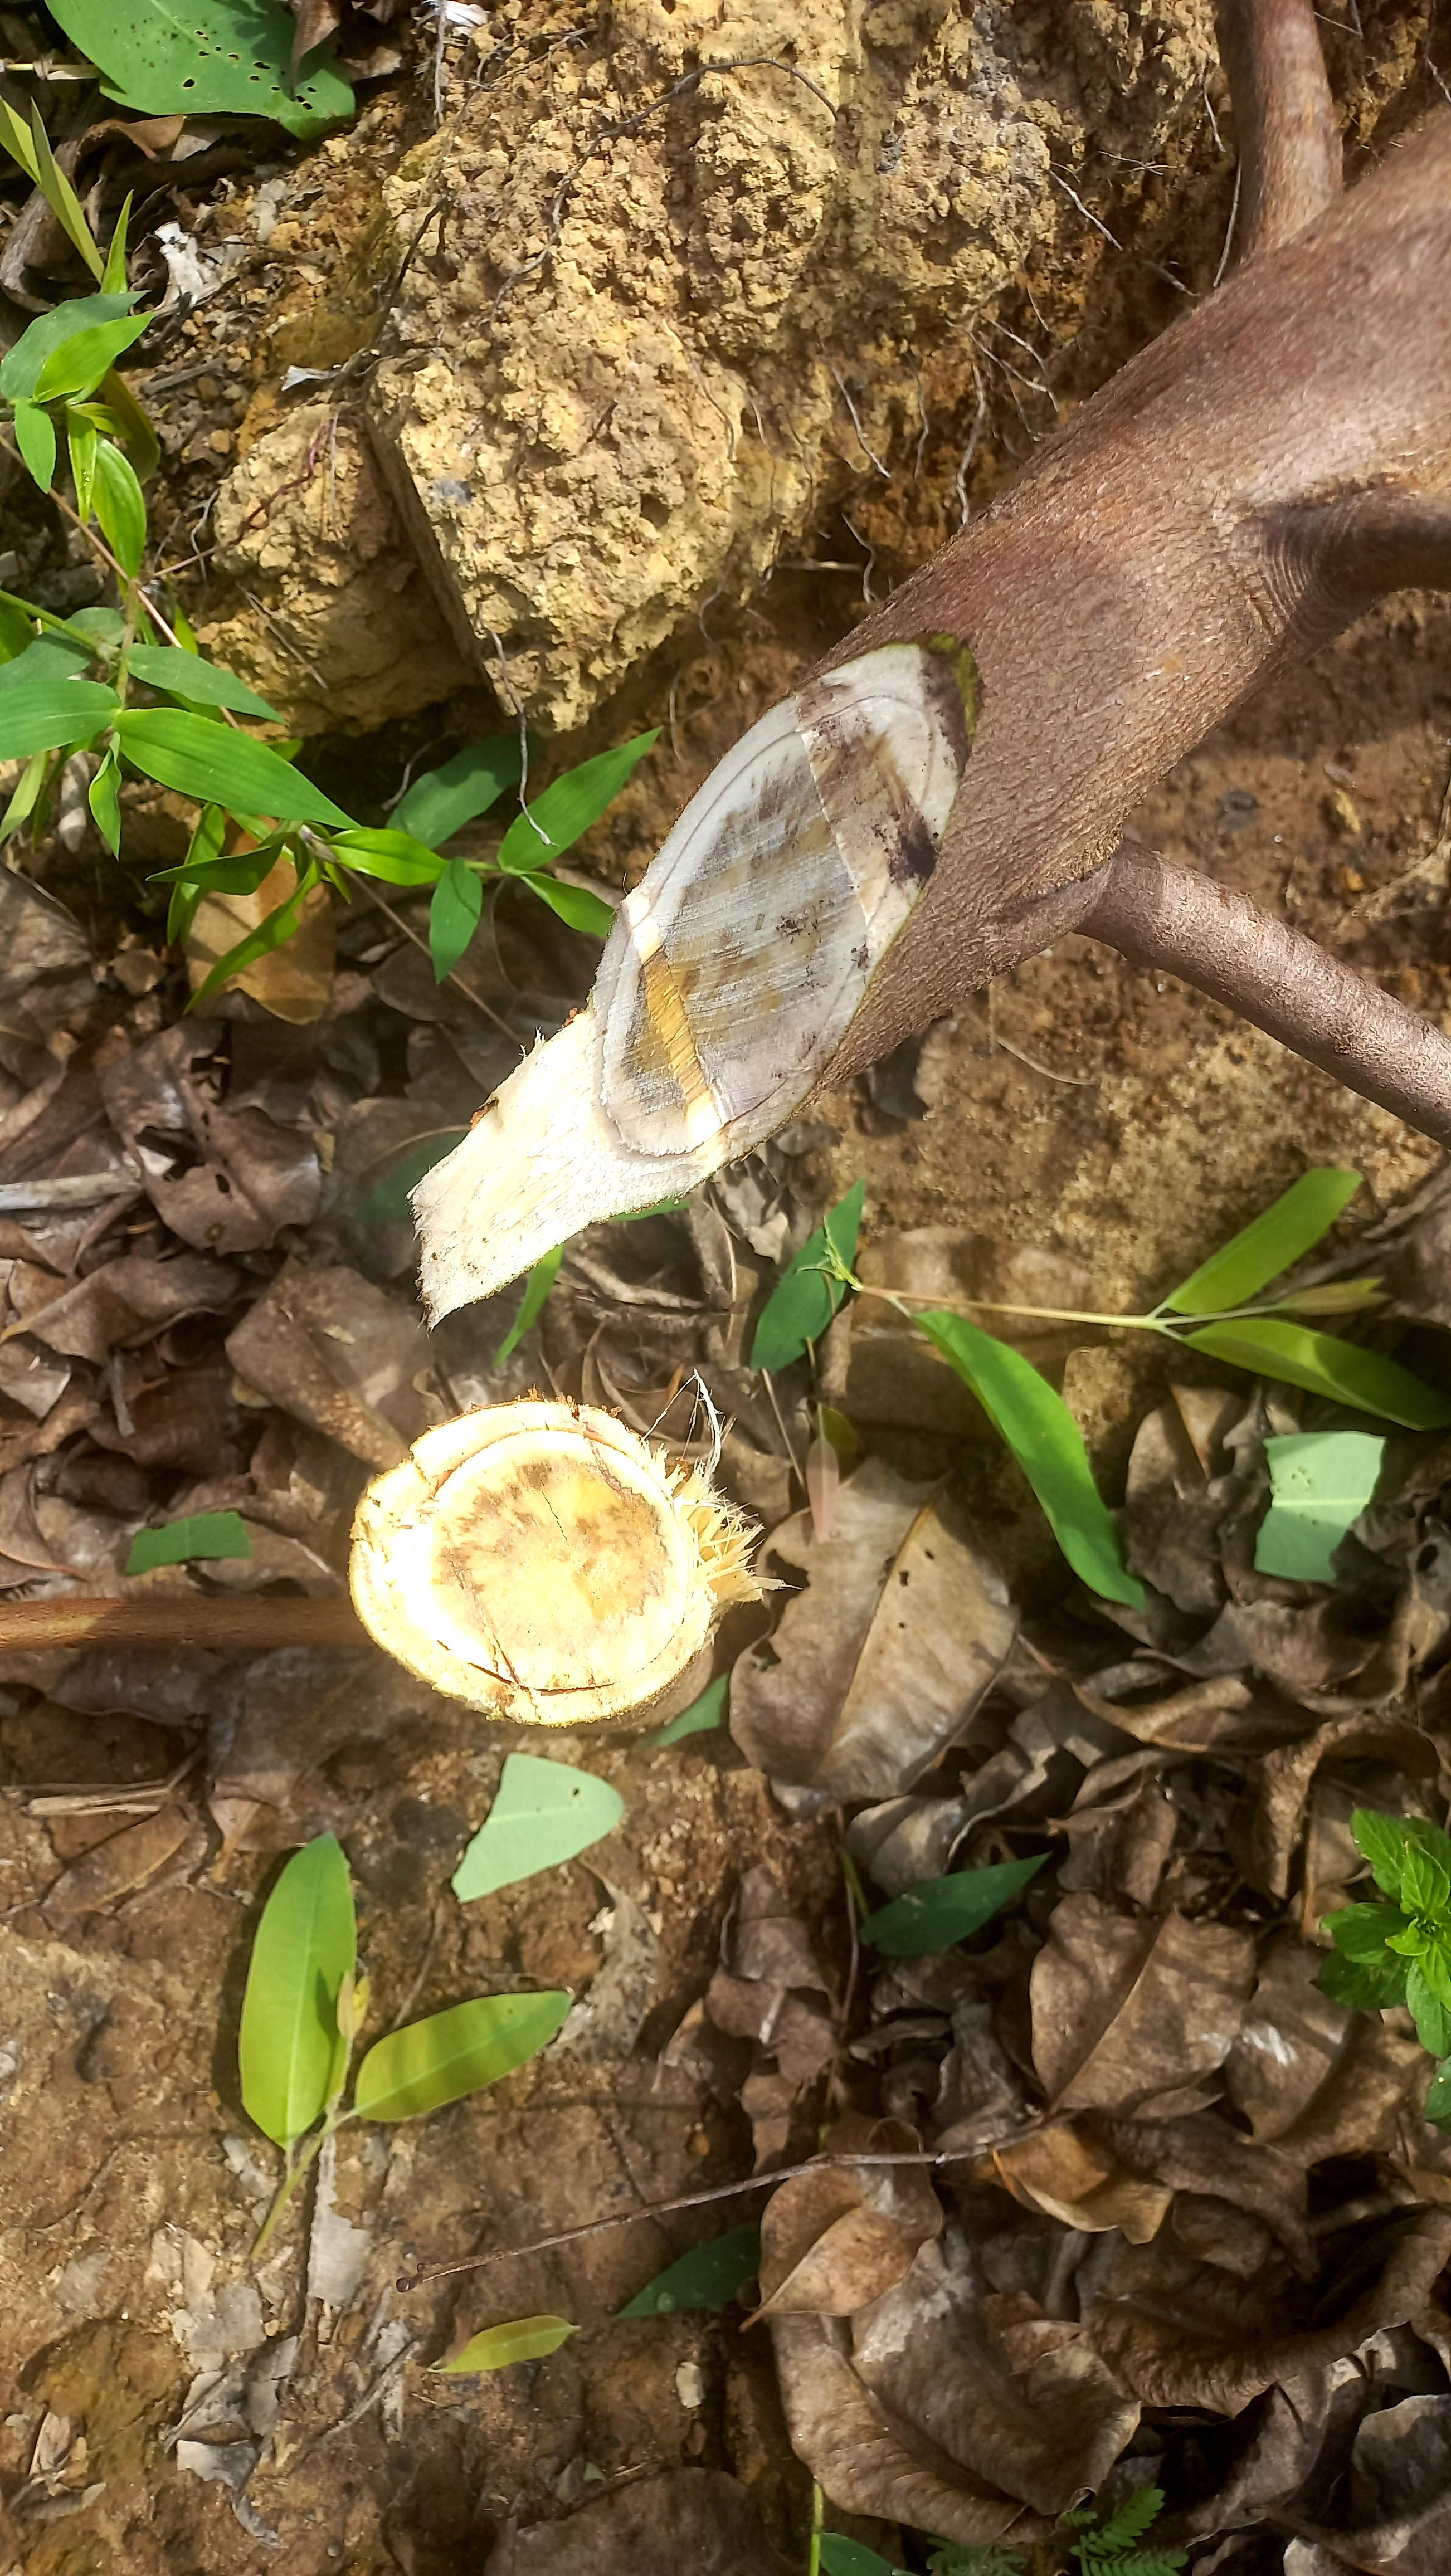Ralstonia: (630, 982, 687, 1116), (695, 959, 786, 1023), (667, 897, 764, 954), (676, 823, 787, 869), (825, 835, 862, 915), (694, 1037, 749, 1085), (582, 1532, 618, 1592), (522, 1518, 559, 1553)
